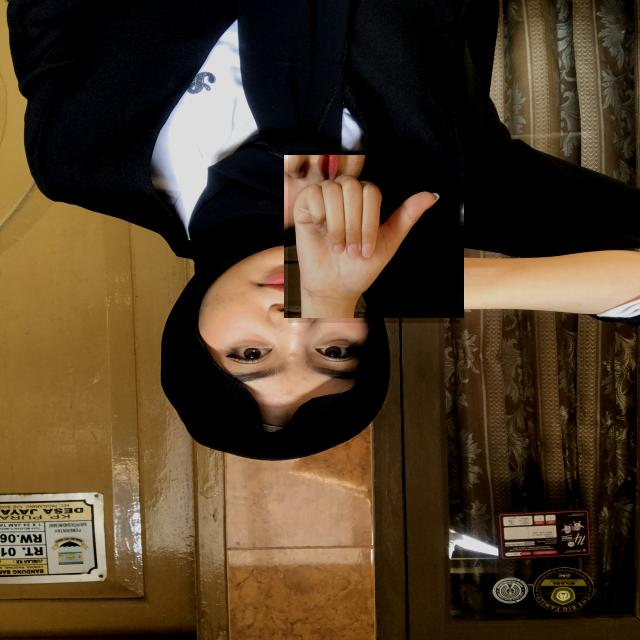sedih: (288, 151, 460, 323)
